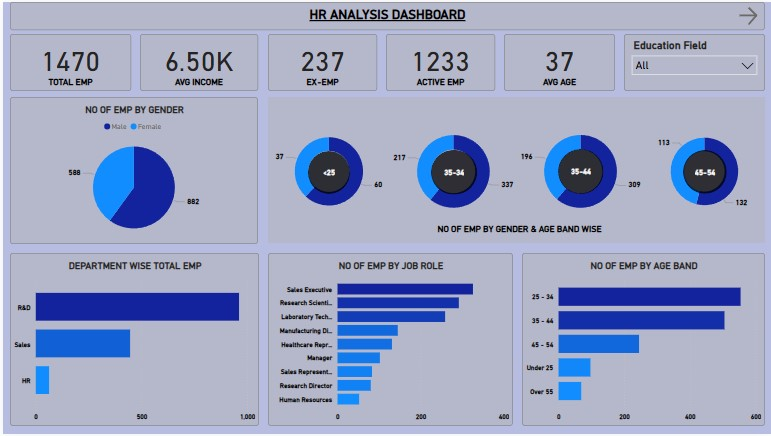

What the dashboard file says about the page in this screenshot:
{"tool":"powerbi","page":{"name":"HR_Analysis_Dashboard","canvas":[1280,720],"ordinal":0},"visuals":[{"type":"textbox","box":[11.7,0,1258.3,46.7],"z":0},{"type":"card","fields":{"Values":["HR data.AVG AGE"]},"box":[835,53.4,185,95],"z":0,"group":"g1"},{"type":"donutChart","fields":{"Category":["HR data.Gender","HR data.CF_age band"],"Y":["CountNonNull(HR data.emp no)"]},"box":[441.7,158.8,203.3,243.3],"z":0,"group":"g3"},{"type":"shape","box":[1133.4,246.1,73.3,73.3],"z":0,"group":"g4"},{"type":"card","fields":{"Values":["HR data.TOTAL EMP"]},"box":[11.7,53.3,201.7,95],"z":1000},{"type":"card","fields":{"Values":["HR data.FEMALE"]},"box":[441.7,53.4,181.7,95],"z":1000,"group":"g1"},{"type":"donutChart","fields":{"Category":["HR data.Gender","HR data.CF_age band"],"Y":["CountNonNull(HR data.emp no)"]},"box":[645,158.8,211.7,243.3],"z":1000,"group":"g3"},{"type":"shape","box":[924.5,244.2,76.4,75.5],"z":1000,"group":"g4"},{"type":"card","fields":{"Values":["HR data.AVG SALARY"]},"box":[228.3,53.3,196.7,95],"z":2000},{"type":"card","fields":{"Values":["HR data.MALE"]},"box":[638.4,53.4,181.7,95],"z":2000,"group":"g1"},{"type":"donutChart","fields":{"Category":["HR data.Gender","HR data.CF_age band"],"Y":["CountNonNull(HR data.emp no)"]},"box":[856.7,158,211.7,243],"z":2000,"group":"g3"},{"type":"shape","box":[712.6,246,77.3,74.5],"z":2000,"group":"g4"},{"type":"slicer","fields":{"Values":["HR data.Education Field"]},"box":[1035.6,52.8,235,95],"z":3000,"group":"g1"},{"type":"donutChart","fields":{"Category":["HR data.Gender","HR data.CF_age band"],"Y":["CountNonNull(HR data.emp no)"]},"box":[1068.4,158.4,201.7,243.3],"z":3000,"group":"g3"},{"type":"shape","box":[508.4,247,70,71.7],"z":3000,"group":"g4"},{"type":"barChart","title":"DEPARTMENT WISE TOTAL EMP","fields":{"Category":["HR data.Department"],"Y":["CountNonNull(HR data.emp no)"]},"box":[11.7,418.3,415,288.3],"z":3000},{"type":"barChart","title":"NO OF EMP BY JOB ROLE","fields":{"Category":["HR data.Job Role"],"Y":["Sum(HR data.Employee Count)"]},"box":[441.7,418.3,408.3,288.3],"z":4000},{"type":"barChart","title":"NO OF EMP BY AGE BAND","fields":{"Category":["HR data.CF_age band"],"Y":["HR data.TOTAL EMP"]},"box":[865,418.3,405,288.3],"z":5000},{"type":"pieChart","title":"NO OF EMP BY GENDER","fields":{"Category":["HR data.Gender"],"Y":["Count(HR data.emp no)"]},"box":[11.7,158.3,413.3,245],"z":6000},{"type":"group","id":"g1","title":"Group 1","box":[441.7,52.8,828.9,95.6],"z":7000},{"type":"group","id":"g2","title":"Group 4","box":[441.7,158,828.3,244.2],"z":8000},{"type":"group","id":"g3","title":"Group 2","box":[441.7,158,828.3,244.2],"z":9000,"group":"g2"},{"type":"textbox","box":[441.7,360,838.3,40],"z":9000},{"type":"group","id":"g4","title":"Group 3","box":[508.4,244.2,698.3,76.4],"z":9500,"group":"g2"},{"type":"actionButton","box":[1222,4,48,40],"z":10000}]}

Visuals, with their boxes in screenshot pixels (x1, y1, x2, y2), scaled from the page's 1280x720 canvas onto the 771x436 screenshot:
textbox: crop(7, 0, 765, 28)
card - HR data.AVG AGE: crop(503, 32, 614, 90)
donutChart - HR data.Gender x HR data.CF_age band: crop(266, 96, 389, 243)
shape: crop(683, 149, 727, 193)
card - HR data.TOTAL EMP: crop(7, 32, 129, 90)
card - HR data.FEMALE: crop(266, 32, 376, 90)
donutChart - HR data.Gender x HR data.CF_age band: crop(389, 96, 516, 243)
shape: crop(557, 148, 603, 194)
card - HR data.AVG SALARY: crop(138, 32, 256, 90)
card - HR data.MALE: crop(385, 32, 494, 90)
donutChart - HR data.Gender x HR data.CF_age band: crop(516, 96, 644, 243)
shape: crop(429, 149, 476, 194)
slicer - HR data.Education Field: crop(624, 32, 765, 90)
donutChart - HR data.Gender x HR data.CF_age band: crop(644, 96, 765, 243)
shape: crop(306, 150, 348, 193)
"DEPARTMENT WISE TOTAL EMP" barChart: crop(7, 253, 257, 428)
"NO OF EMP BY JOB ROLE" barChart: crop(266, 253, 512, 428)
"NO OF EMP BY AGE BAND" barChart: crop(521, 253, 765, 428)
"NO OF EMP BY GENDER" pieChart: crop(7, 96, 256, 244)
"Group 1" group: crop(266, 32, 765, 90)
"Group 4" group: crop(266, 96, 765, 244)
"Group 2" group: crop(266, 96, 765, 244)
textbox: crop(266, 218, 770, 242)
"Group 3" group: crop(306, 148, 727, 194)
actionButton: crop(736, 2, 765, 27)
